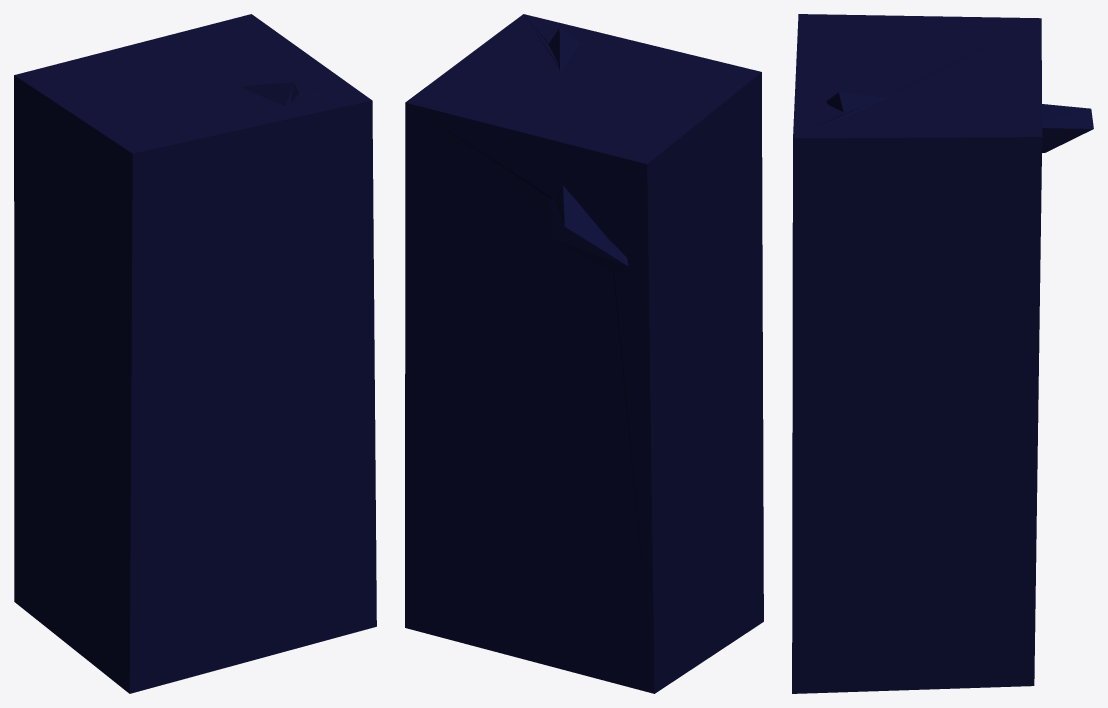
3 renders of one model, left to right at view 1: azimuth 30°, elevation 25°; view 2: azimuth 150°, elevation 25°; view 3: azimuth 270°, elevation 25°, orthographic. The views are drawn at different scales.
Parts seen in each view (by area): view 1: 287_Cube.1174; view 2: 287_Cube.1174; view 3: 287_Cube.1174.
Part boxes in pixels (box(x1,y1,x2,y2)): 287_Cube.1174: box(14, 14, 376, 693); 287_Cube.1174: box(405, 14, 763, 693); 287_Cube.1174: box(792, 14, 1093, 693).
Bounding box in the file's own units: 5.91 × 13.04 × 5.94.
